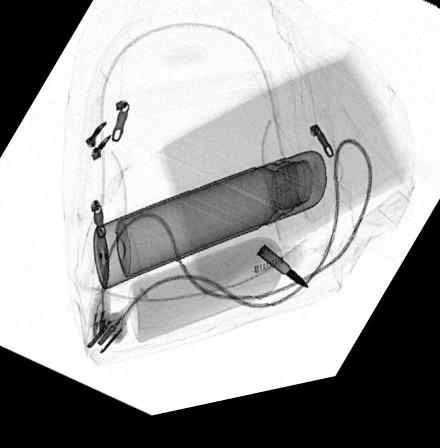Bullet: (255, 255, 307, 302)
